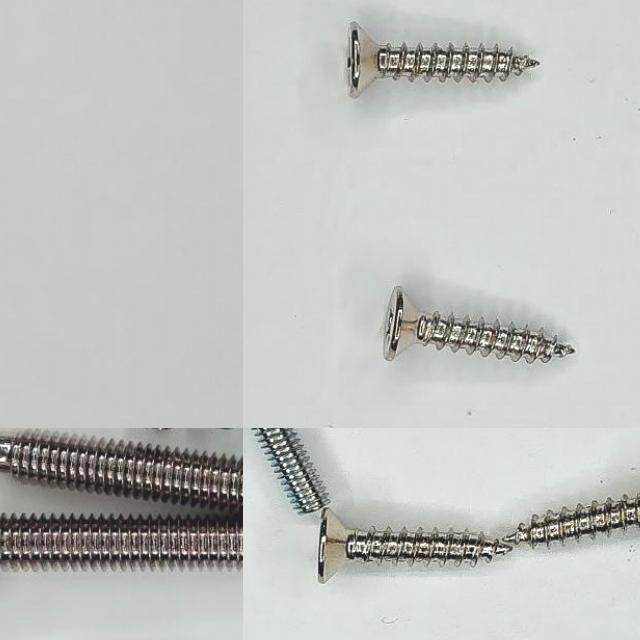Screw: (0, 431, 243, 519), (383, 287, 576, 365), (347, 21, 540, 98), (317, 509, 513, 584), (0, 516, 243, 570), (504, 494, 640, 547), (250, 428, 329, 515), (597, 498, 640, 532)
